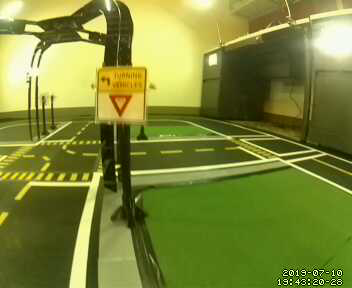Turn Yield: (95, 65, 146, 122)
